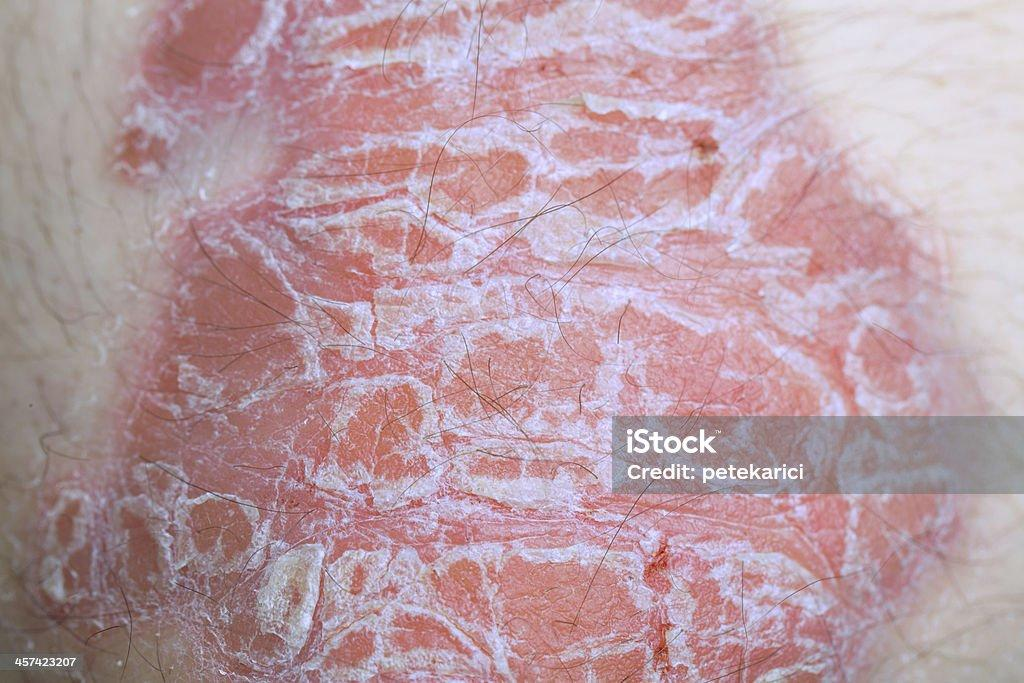Dry-Skin: (550, 127, 730, 295), (392, 150, 517, 320), (392, 398, 527, 555), (180, 458, 312, 607), (557, 38, 738, 138), (175, 32, 287, 193), (243, 238, 360, 385), (598, 330, 770, 423), (377, 575, 480, 683), (597, 582, 708, 678), (833, 248, 903, 398), (15, 487, 115, 592), (298, 30, 385, 142), (228, 528, 312, 643)
